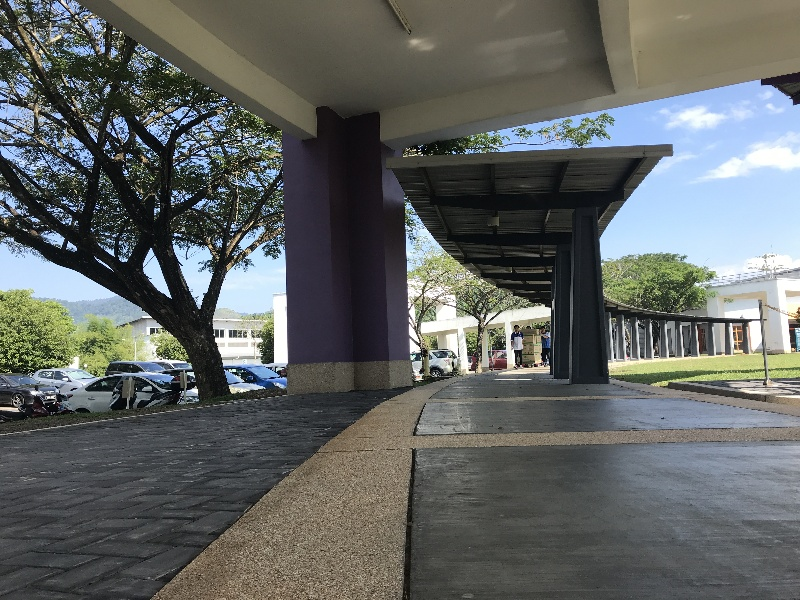Block D Pillar 6: (6, 4, 800, 534)
pillar: (268, 102, 424, 403), (550, 205, 618, 392)
